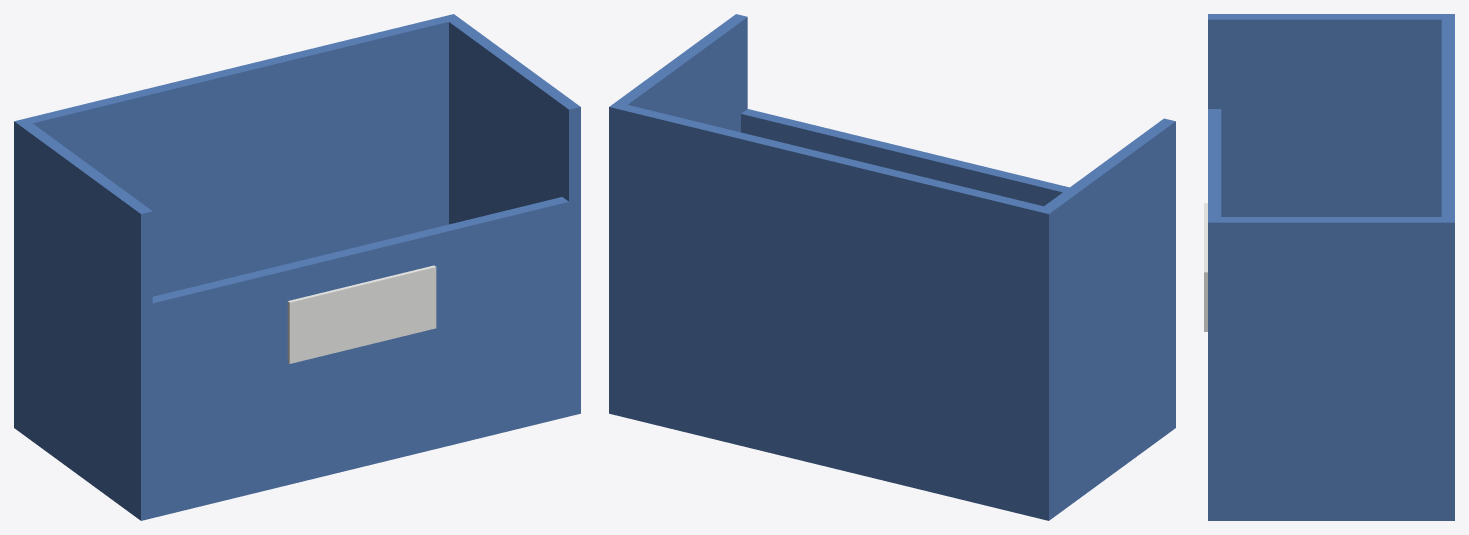
File: parts_box.glb
The picture shows the model from 3 angles, left to right: view 1: azimuth 30°, elevation 25°; view 2: azimuth 150°, elevation 25°; view 3: azimuth 270°, elevation 25°; orthographic projection. The views are drawn at different scales.
Visible parts, largest first — view 1: parts_box; view 2: parts_box; view 3: parts_box.
Part boxes in pixels (x1,y1,x2,y2): parts_box: (14,14,580,520); parts_box: (609,14,1175,520); parts_box: (1204,14,1454,520).
Size of the model in its own units: 0.3 by 0.2 by 0.1525.
Materials: 1 (1 with a texture image).
